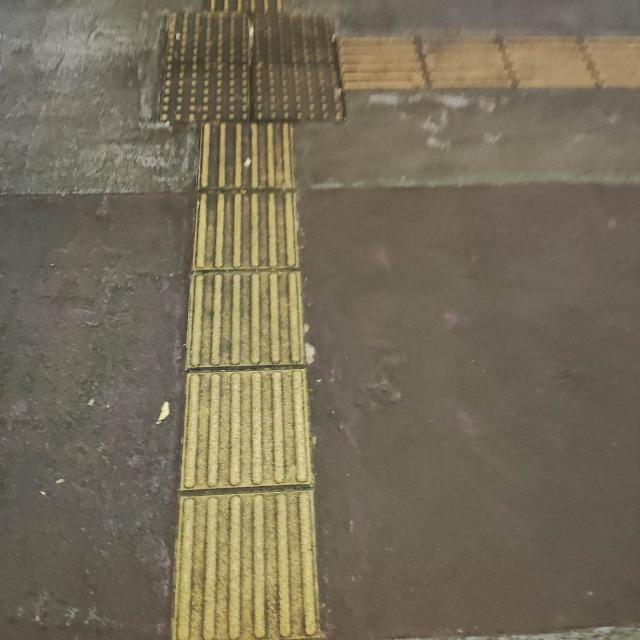kanan: (142, 20, 493, 178)
